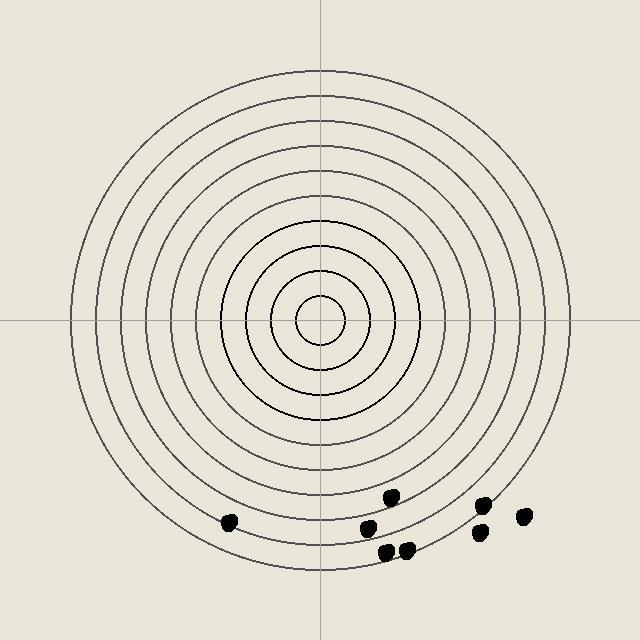horizontal_scatter: (469, 522, 489, 542), (513, 506, 533, 526), (375, 542, 395, 562), (218, 512, 238, 532), (472, 495, 492, 515), (396, 540, 416, 560), (357, 518, 377, 538), (380, 487, 400, 507)
